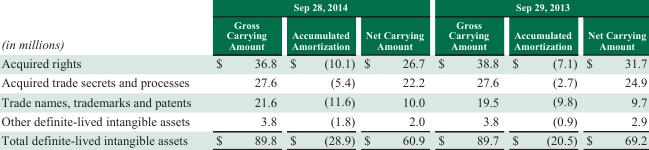table: (0, 1, 646, 146)
table column: (0, 1, 202, 146), (202, 1, 282, 146), (504, 1, 581, 146), (282, 1, 358, 146), (430, 1, 504, 146), (358, 1, 430, 146), (581, 1, 646, 146)
table column header: (0, 1, 646, 53)
table row: (0, 15, 646, 53), (0, 53, 646, 72), (0, 72, 646, 91), (0, 91, 646, 110), (0, 110, 646, 129), (0, 129, 646, 146), (0, 1, 646, 15)
table spanning cell: (0, 1, 202, 53), (202, 1, 430, 15), (430, 1, 646, 15)
